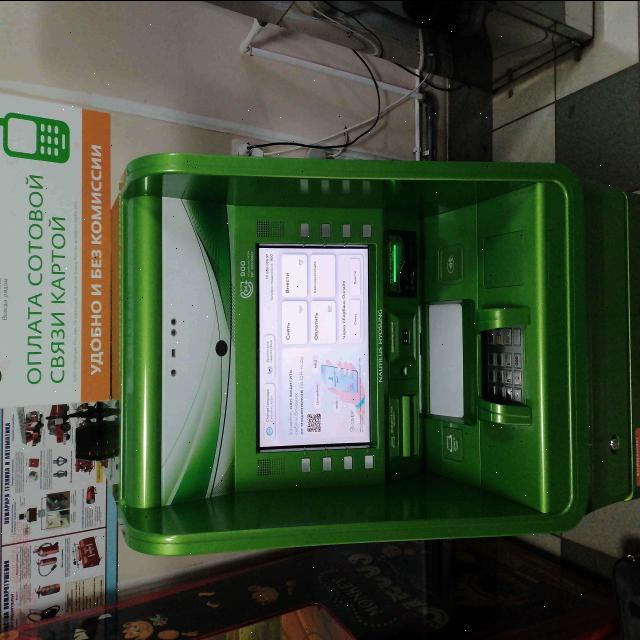bank: (99, 148, 640, 558)
